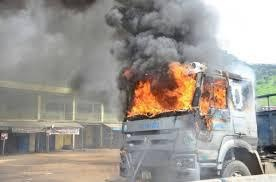fire: (122, 61, 200, 116), (198, 74, 229, 111)
